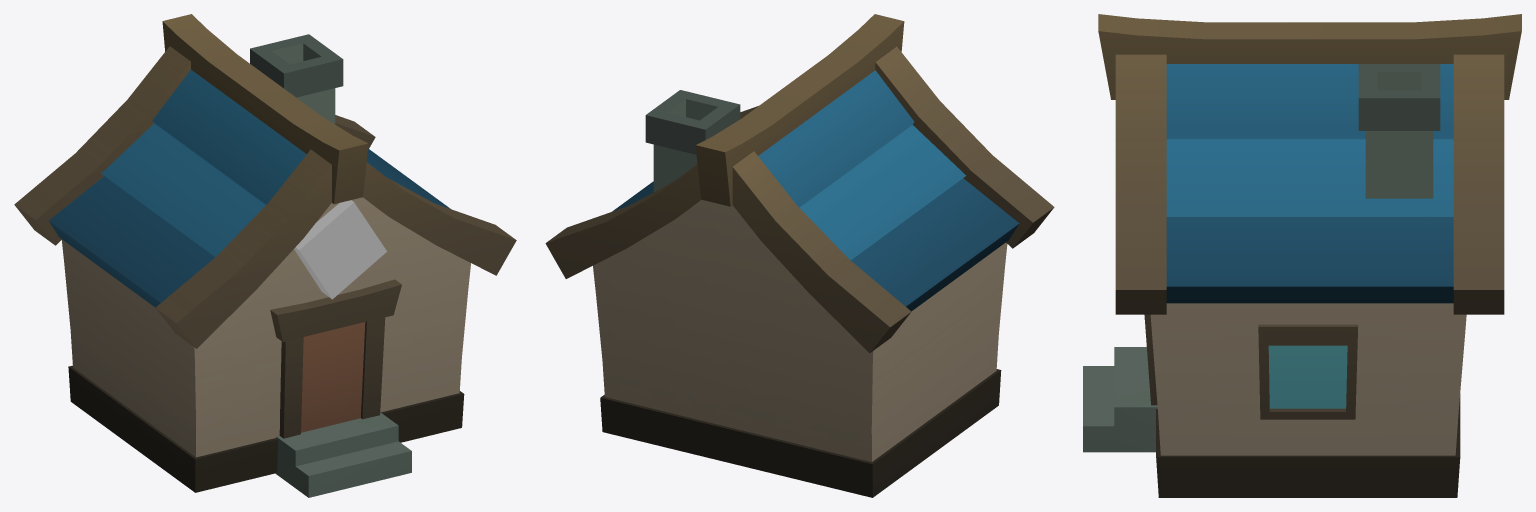
File: Pet_House.fbx
3 renders of one model, left to right at view 1: azimuth 30°, elevation 25°; view 2: azimuth 150°, elevation 25°; view 3: azimuth 270°, elevation 25°, orthographic. The views are drawn at different scales.
Parts seen in each view (by area): view 1: Pet_House; view 2: Pet_House; view 3: Pet_House.
Part boxes in pixels (<box>): Pet_House: <box>14,14,516,497</box>; Pet_House: <box>545,14,1054,497</box>; Pet_House: <box>1083,14,1521,497</box>.
Size of the model in its own units: 694 by 650 by 647.
